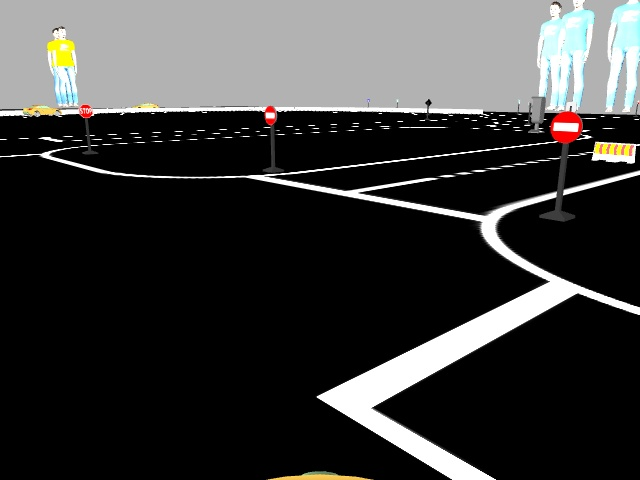ClosedRoadStand: (594, 143, 634, 163)
NoEntry: (549, 109, 582, 142), (263, 104, 279, 123)
Stop: (77, 104, 93, 118)
